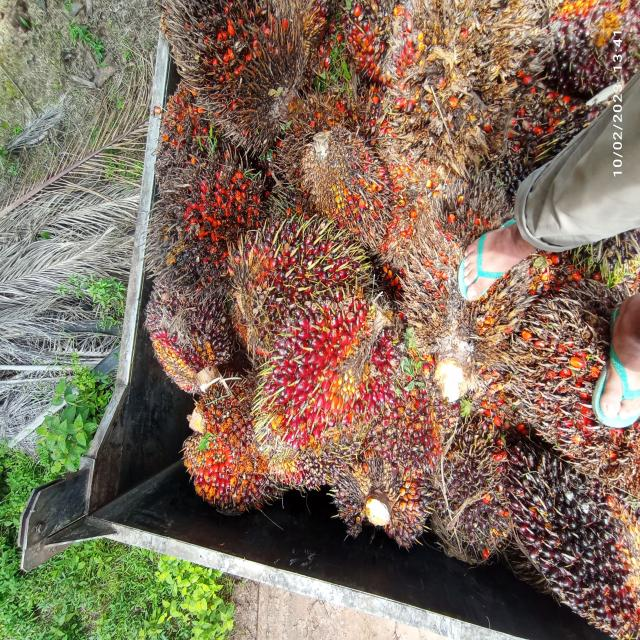fraksi 00: (492, 426, 640, 640), (437, 393, 502, 570), (142, 266, 235, 388)
fraksi 1: (227, 212, 380, 321), (298, 122, 396, 248), (342, 0, 394, 92)
fraksi 3: (256, 292, 396, 474), (174, 366, 294, 520)
fraksi 4: (519, 299, 640, 483), (170, 0, 304, 147), (147, 156, 273, 282), (150, 80, 216, 161)
